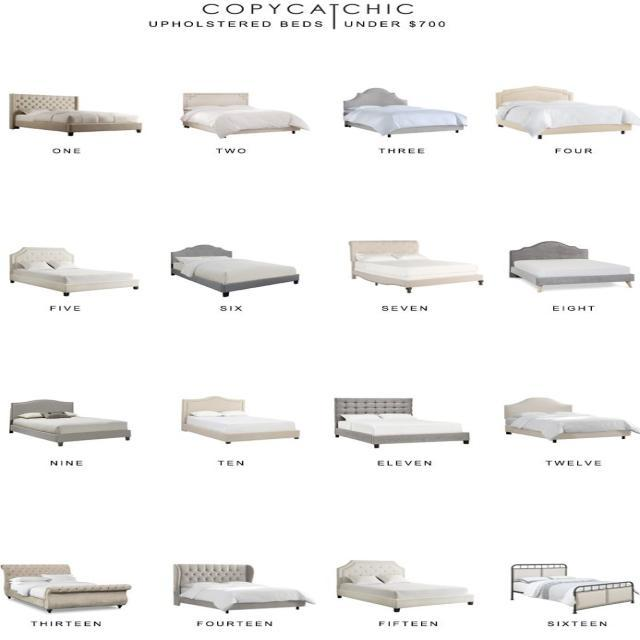obstacle: (328, 396, 474, 450), (494, 85, 636, 139), (348, 239, 484, 293), (336, 559, 474, 612), (505, 562, 640, 616), (506, 240, 636, 294), (165, 244, 302, 295), (174, 392, 308, 444), (172, 562, 309, 610), (8, 246, 138, 296), (1, 563, 131, 613), (344, 85, 468, 137), (501, 396, 638, 442), (6, 396, 134, 444), (180, 92, 310, 139), (11, 94, 145, 135)
